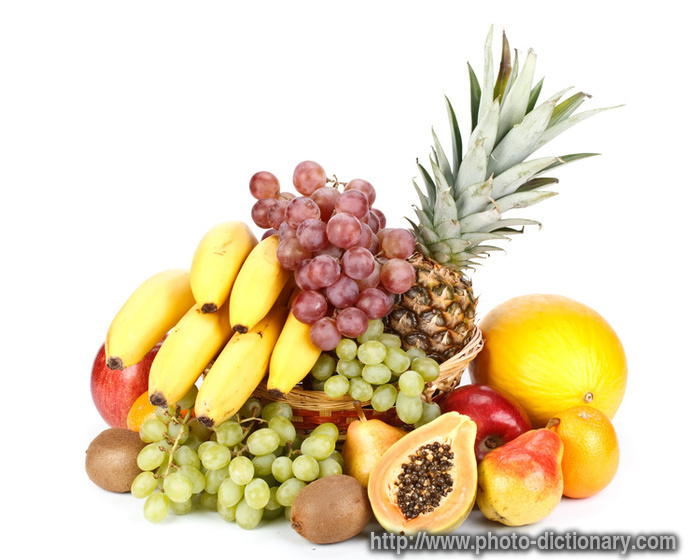banana: (94, 242, 188, 377), (191, 328, 268, 433), (147, 306, 214, 410), (185, 211, 247, 312), (261, 304, 318, 410), (226, 235, 279, 335)
